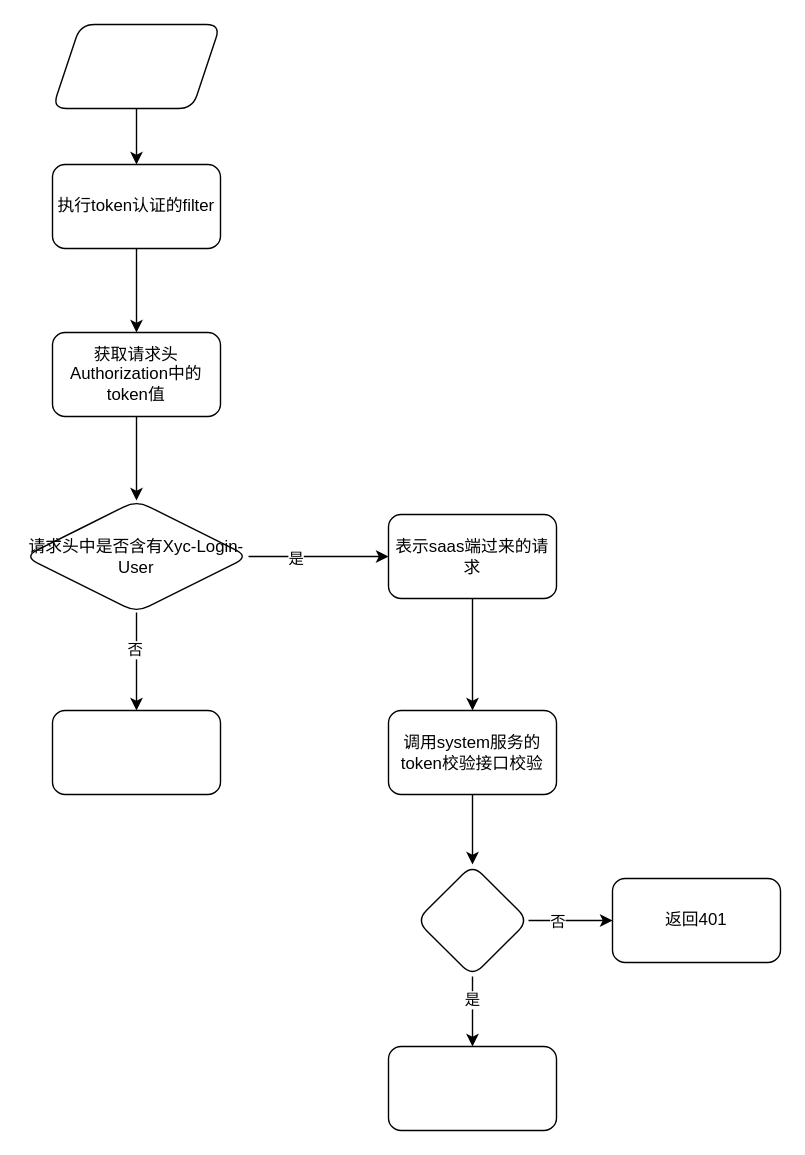
The diagram is 805 pixels wide and 1155 high, and some of its shapes have lost their labels. Here are the shapes that lost their labels. From the top down, the centre of each, then its label:
point 135,65: 前端请求接口开始
point 135,751: 表示来自小程序本身的token
point 471,919: 校验是否通过
